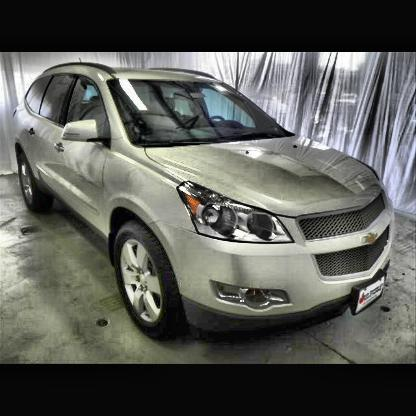Chevrolet Traverse SUV 2012: (12, 58, 398, 340)
